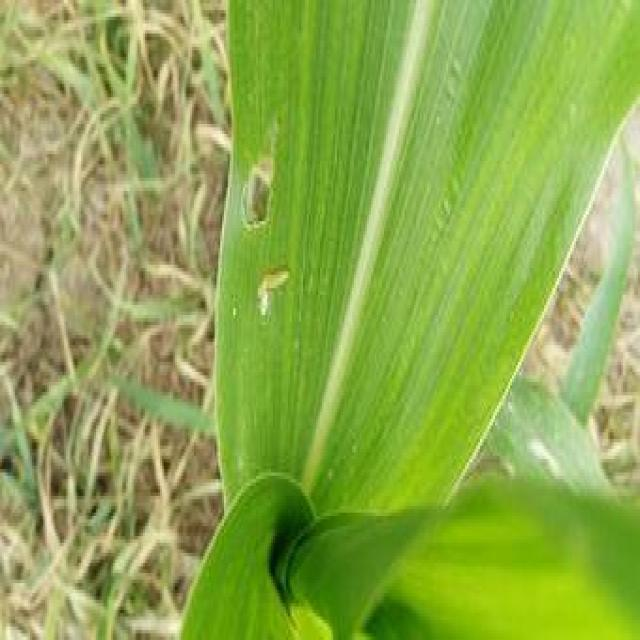pest: (261, 262, 294, 319)
